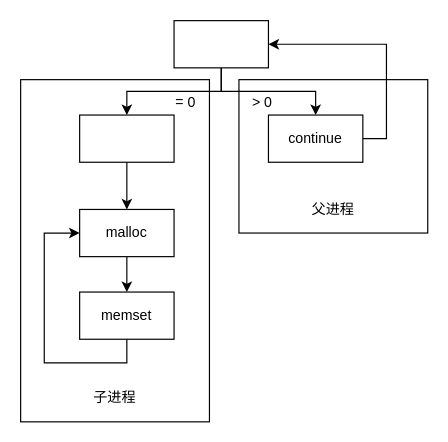
The diagram is 448 pixels wide and 442 high, and some of its shapes have lost their labels. Here are the shapes that lost their labels. From the top down, the centre of each, then its label:
At [220,43]: "fork".
At [126,138]: "break".
